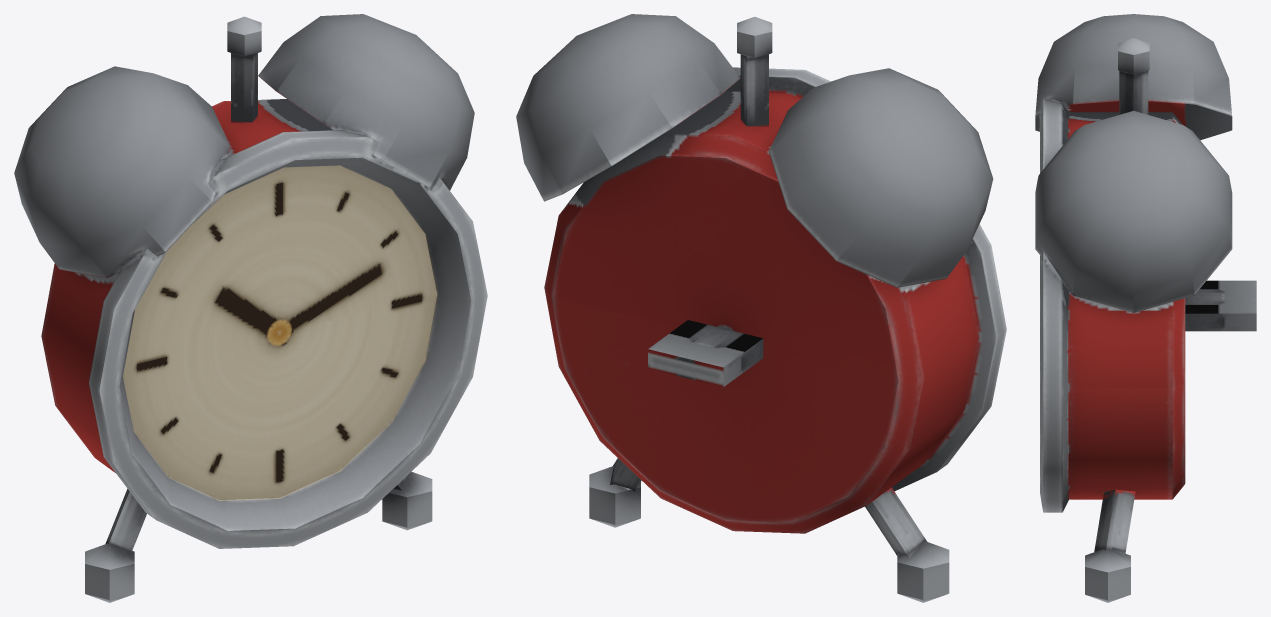
Rendered from Clock_Alarm_01.glb.
3 renders of one model, left to right at view 1: azimuth 30°, elevation 25°; view 2: azimuth 150°, elevation 25°; view 3: azimuth 270°, elevation 25°, orthographic. The views are drawn at different scales.
Parts seen in each view (by area): view 1: Clock_Alarm_01; view 2: Clock_Alarm_01; view 3: Clock_Alarm_01.
Part boxes in pixels (x1=…): Clock_Alarm_01: x1=14, y1=14, x2=487, y2=602; Clock_Alarm_01: x1=516, y1=14, x2=1006, y2=602; Clock_Alarm_01: x1=1035, y1=14, x2=1256, y2=602.
Bounding box in the file's own units: 0.1419 × 0.17 × 0.0684.
1 material, 1 textured.
